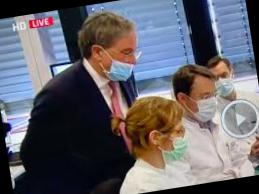mask_weared_incorrect: (97, 41, 146, 87)
with_mask: (151, 123, 198, 168), (186, 86, 225, 124), (212, 69, 238, 98)
